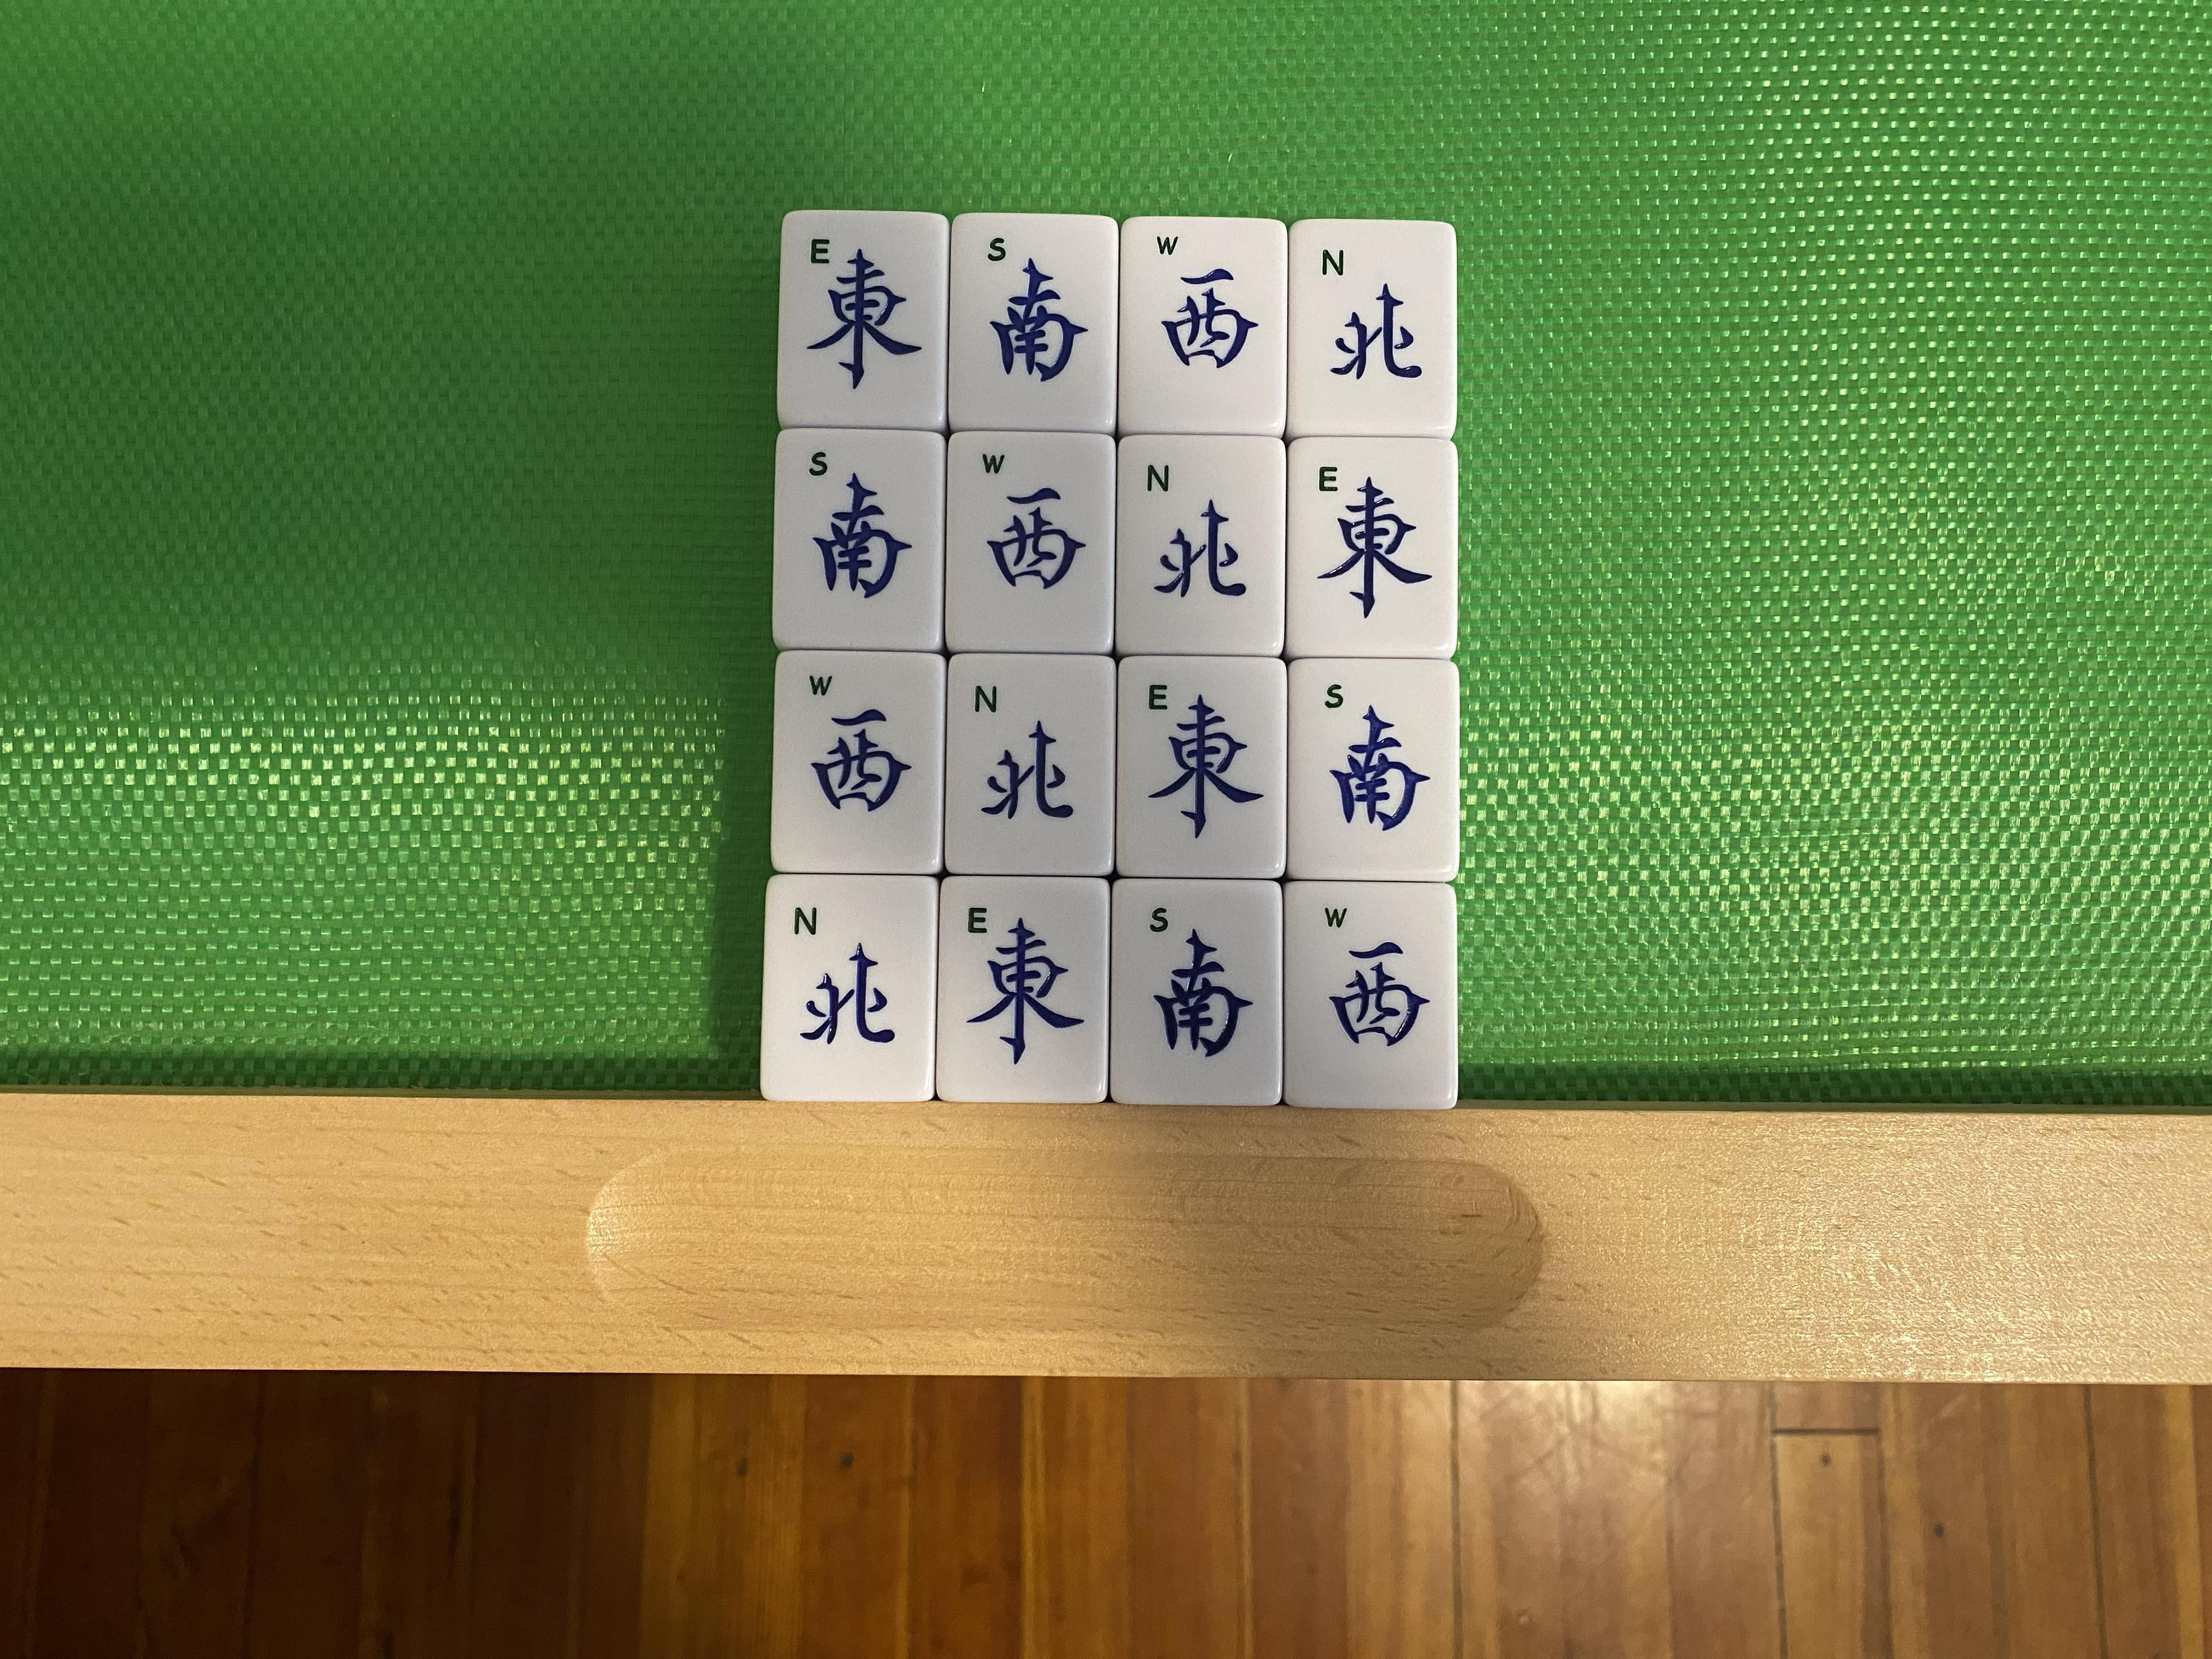honor-east_wind: (937, 884, 1103, 1096), (1291, 439, 1454, 653), (1120, 659, 1282, 873), (786, 214, 939, 423)
honor-north_wind: (763, 880, 932, 1096), (948, 660, 1113, 873), (1289, 225, 1454, 432), (1118, 441, 1278, 652)
honor-south_wind: (1111, 884, 1280, 1101), (1289, 666, 1453, 875), (951, 216, 1115, 423), (779, 432, 939, 640)
honor-west_wind: (1289, 885, 1453, 1107), (773, 655, 941, 868), (948, 436, 1111, 648), (1120, 220, 1284, 430)
